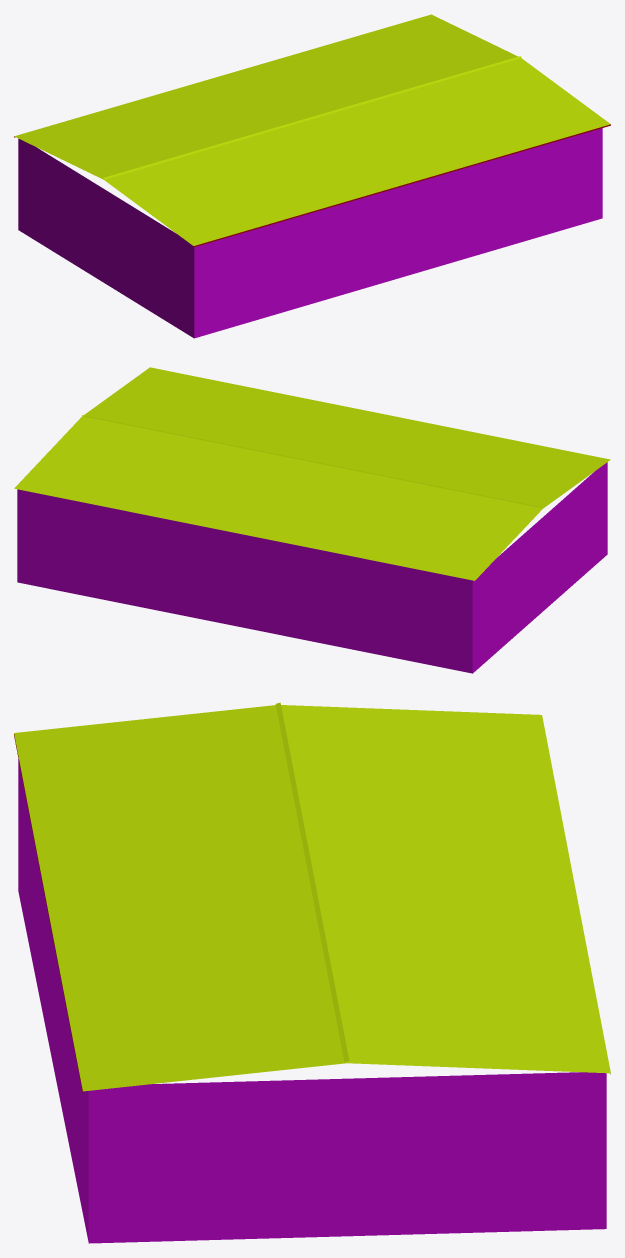
The model's file is hangar_rampe.glb.
3 views of the same model, one above another, from view 1: azimuth 30°, elevation 25°; view 2: azimuth 150°, elevation 25°; view 3: azimuth 270°, elevation 25° (orthographic). The views are drawn at different scales.
Parts seen in each view (by area): view 1: hangar_rampe; view 2: hangar_rampe; view 3: hangar_rampe.
Part boxes in pixels (x1,y1,x2,y2): hangar_rampe: (14,14,610,338); hangar_rampe: (14,367,610,673); hangar_rampe: (14,702,610,1243).
Bounding box in the file's own units: 42.82 × 9.48 × 28.69.
